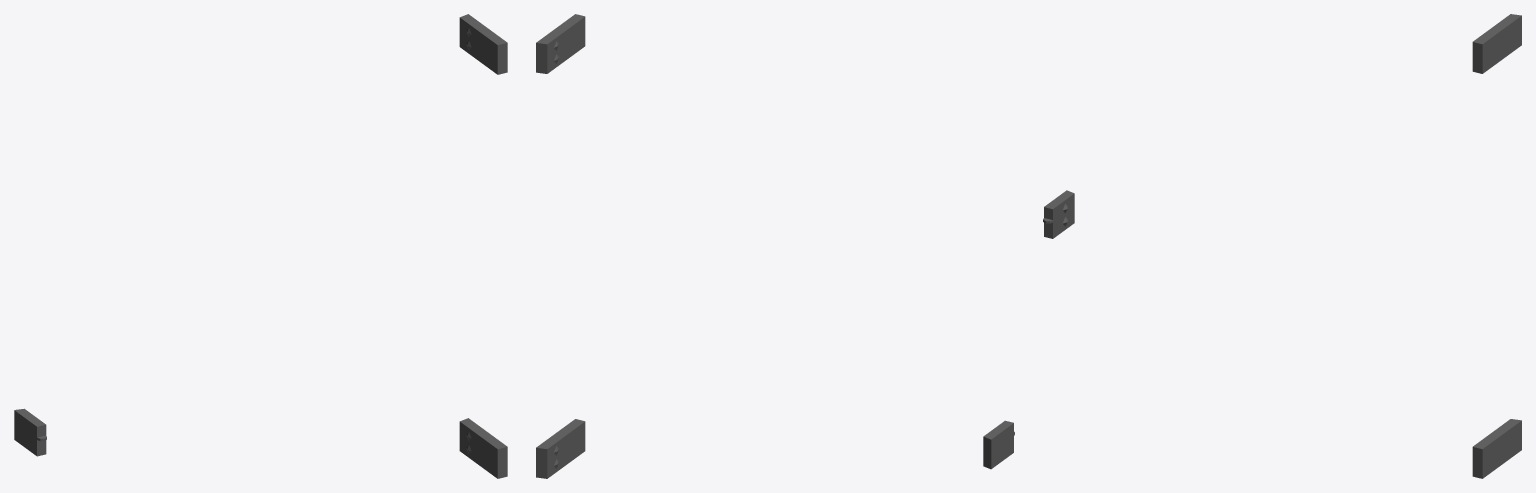
File: SW_ENV_StreetEntrance_01_HingeLock.fbx
The picture shows the model from 3 angles, left to right: view 1: azimuth 30°, elevation 25°; view 2: azimuth 150°, elevation 25°; view 3: azimuth 330°, elevation 25°; orthographic projection.
Parts seen in each view (by area): view 1: SW_ENV_StreetEntrance_01_HingeLock; view 2: SW_ENV_StreetEntrance_01_HingeLock; view 3: SW_ENV_StreetEntrance_01_HingeLock.
Part boxes in pixels (x1,y1,x2,y2): SW_ENV_StreetEntrance_01_HingeLock: [14, 14, 507, 478]; SW_ENV_StreetEntrance_01_HingeLock: [536, 14, 1014, 478]; SW_ENV_StreetEntrance_01_HingeLock: [1043, 14, 1521, 478].
Size of the model in its own units: 2 by 1.82 by 0.3.
